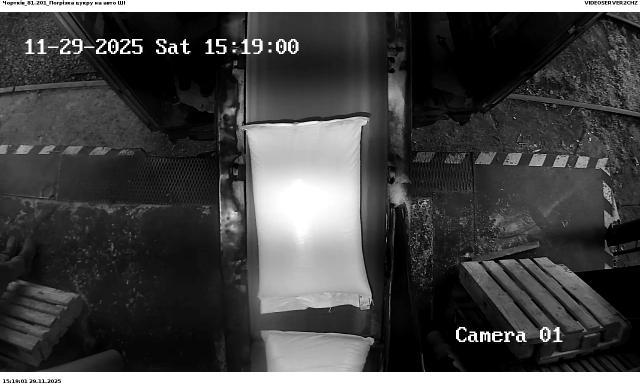bag: (241, 117, 376, 314), (262, 329, 374, 372)
